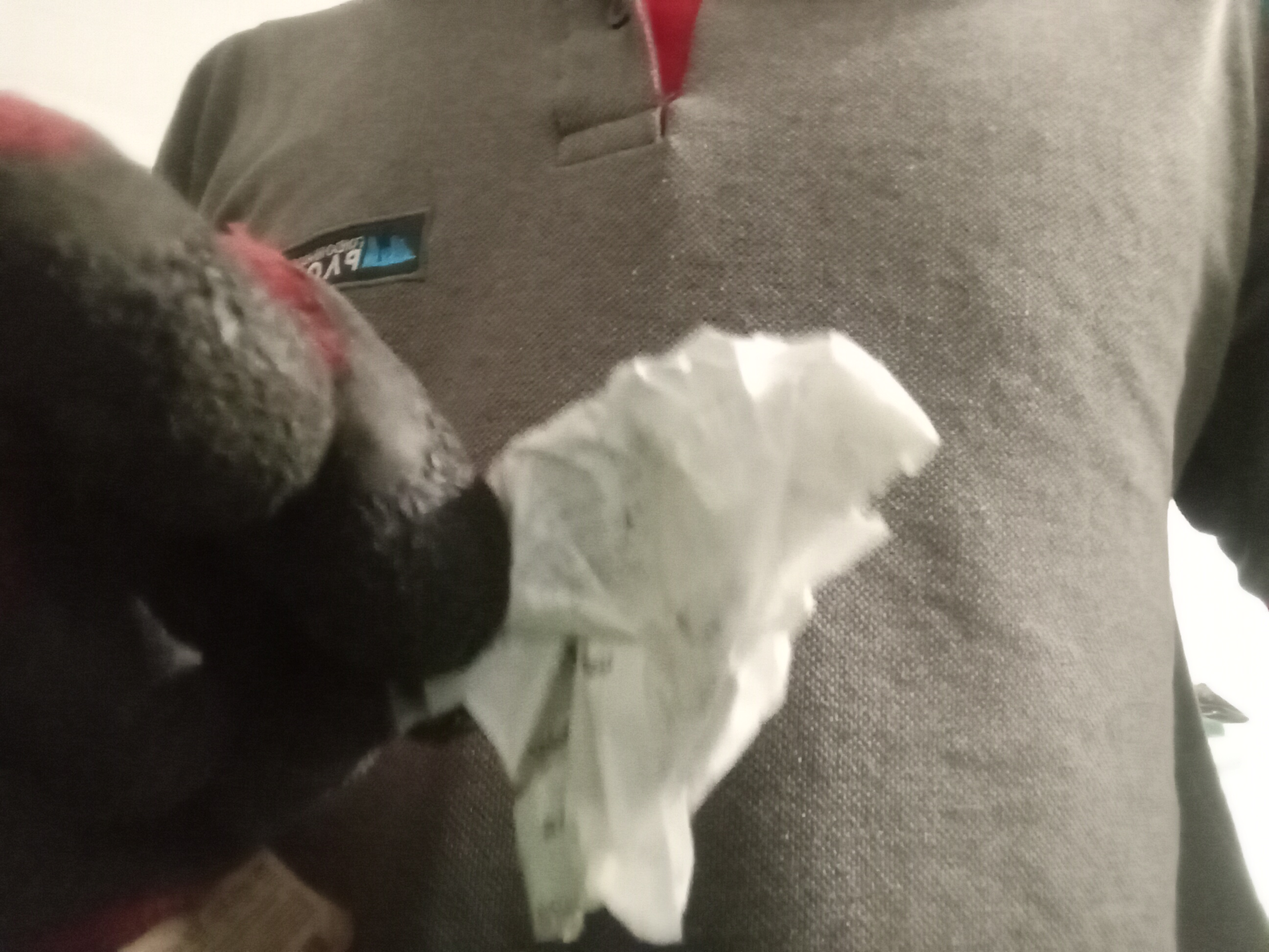Ordinario: (382, 323, 941, 952)
